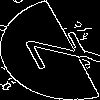Z: (25, 25, 100, 70)
